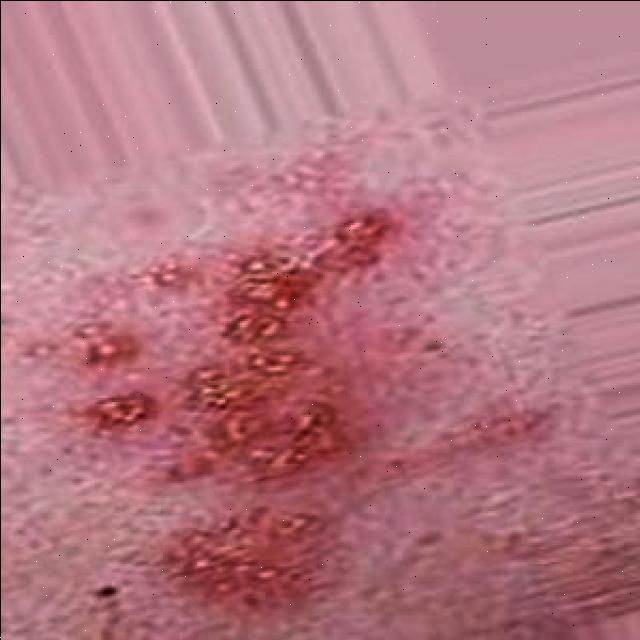Shingles: (100, 219, 397, 476), (166, 504, 320, 608)
